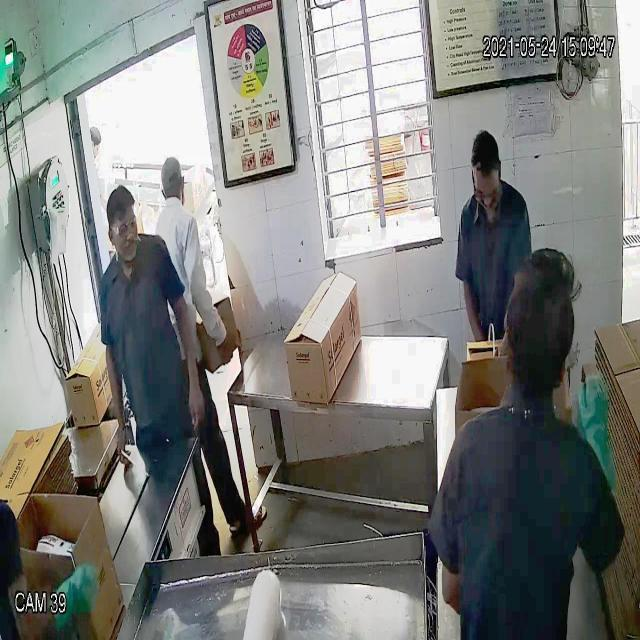glasses: (103, 212, 139, 240)
